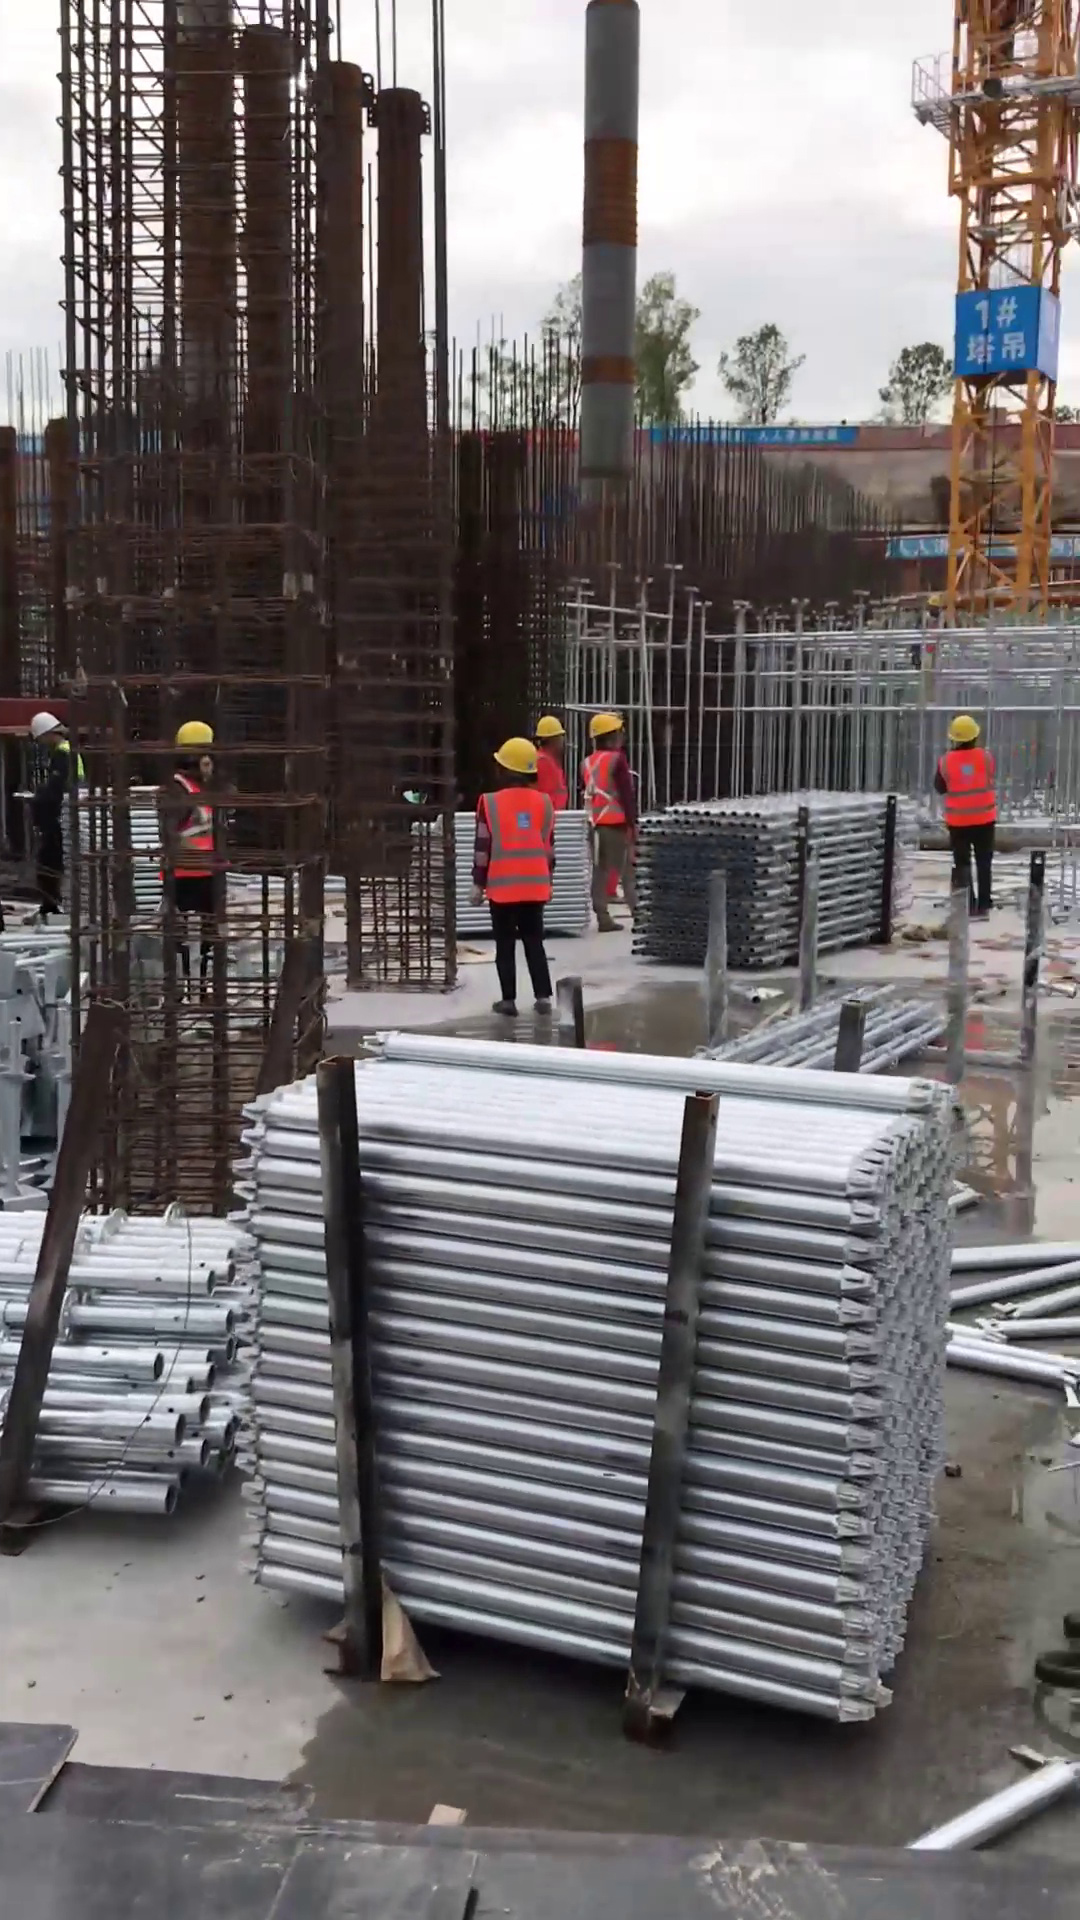helmet: (487, 734, 545, 781), (941, 710, 986, 755), (584, 705, 629, 745), (532, 713, 570, 750)
person: (455, 732, 570, 1027), (916, 706, 1013, 927), (574, 706, 660, 948), (526, 700, 574, 831)
scaffold: (245, 1020, 985, 1737), (1, 1201, 271, 1524), (635, 777, 918, 987)
slogan: (661, 422, 859, 446)
vest: (462, 781, 565, 913), (934, 742, 1002, 839), (574, 748, 642, 832), (534, 744, 571, 815)
